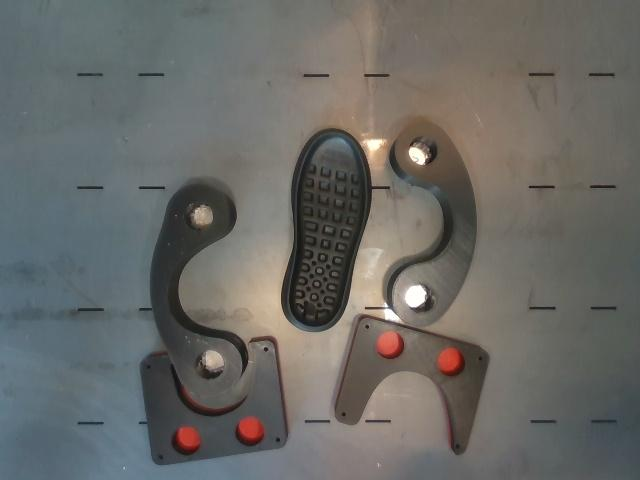shoes: (289, 132, 366, 327)
